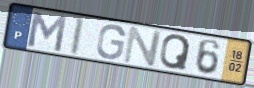6: (195, 38, 222, 77)
G: (95, 23, 127, 61)
I: (67, 15, 87, 58)
M: (26, 10, 69, 54)
N: (122, 25, 165, 68)
Q: (158, 33, 192, 72)
